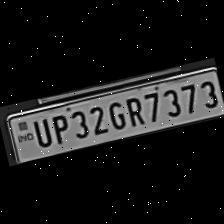2: (84, 102, 110, 138)
3: (156, 84, 183, 120), (66, 106, 92, 142), (194, 75, 220, 111)
7: (138, 88, 164, 124), (174, 80, 200, 115)
G: (103, 97, 129, 133)
P: (46, 110, 72, 146)
R: (120, 92, 146, 128)
U: (28, 114, 54, 149)
